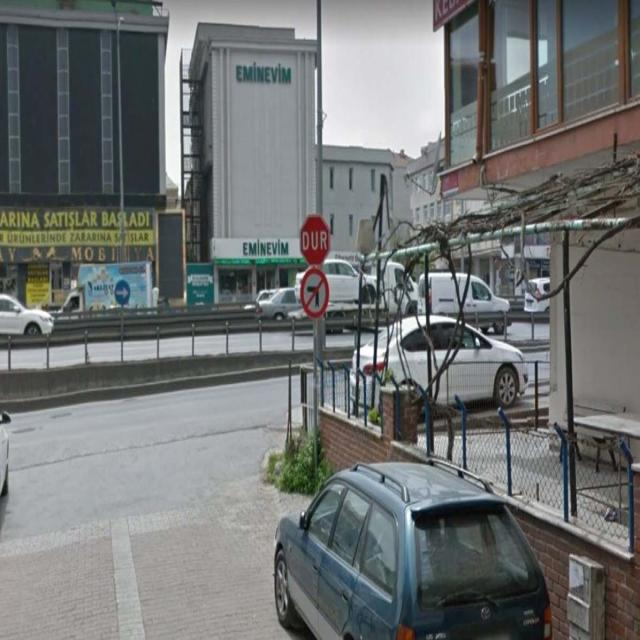dur: (300, 215, 330, 266)
sag: (114, 280, 131, 306)
soladonulmez: (301, 267, 330, 320)
